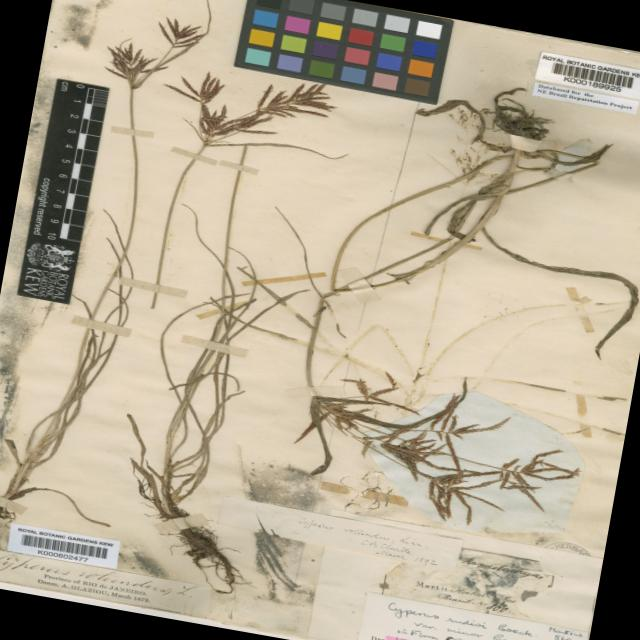cyperus: (273, 350, 591, 536), (160, 54, 342, 160), (94, 1, 216, 100)
